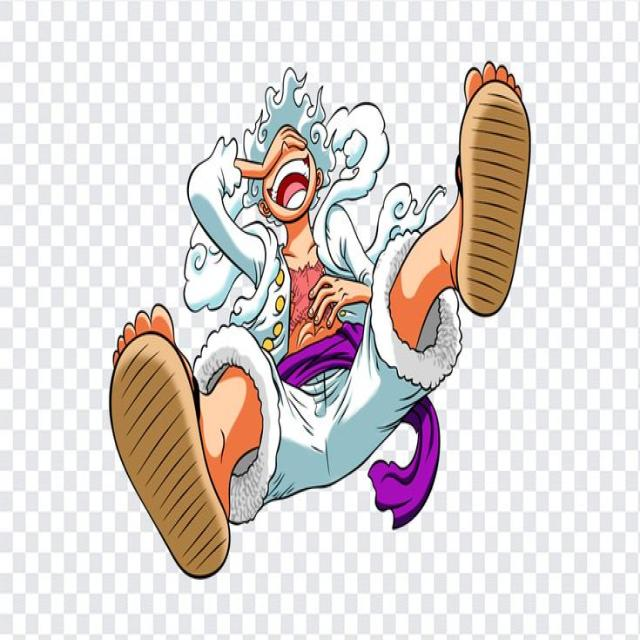luffy: (109, 63, 529, 577)
